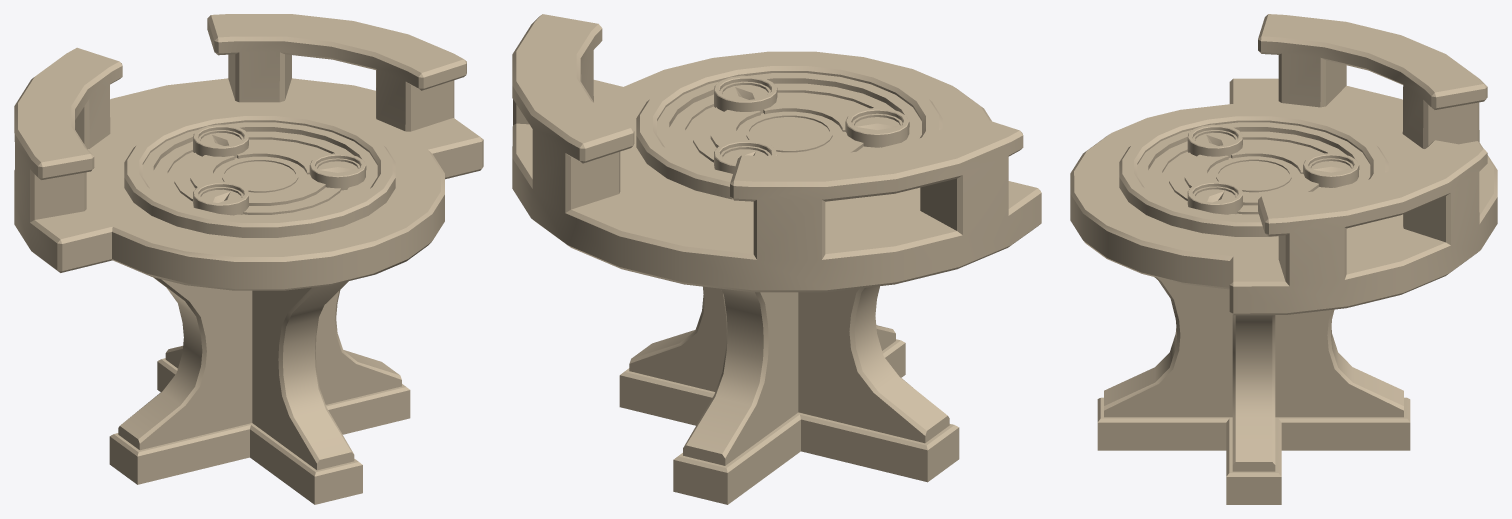
The model's file is Syntesis_table.fbx.
The picture shows the model from 3 angles, left to right: view 1: azimuth 30°, elevation 25°; view 2: azimuth 150°, elevation 25°; view 3: azimuth 270°, elevation 25°; orthographic projection. The views are drawn at different scales.
Visible parts, largest first — view 1: SyntesisTable, SyntesisTable.001; view 2: SyntesisTable, SyntesisTable.001; view 3: SyntesisTable, SyntesisTable.001.
Boxes of the visible parts, left/top/right/bottom form: SyntesisTable: left=14, top=14, right=483, bottom=504; SyntesisTable.001: left=193, top=124, right=365, bottom=215; SyntesisTable: left=512, top=14, right=1041, bottom=504; SyntesisTable.001: left=714, top=75, right=909, bottom=173; SyntesisTable: left=1070, top=14, right=1497, bottom=504; SyntesisTable.001: left=1187, top=124, right=1358, bottom=214.
Bounding box in the file's own units: 126 × 91.11 × 109.
